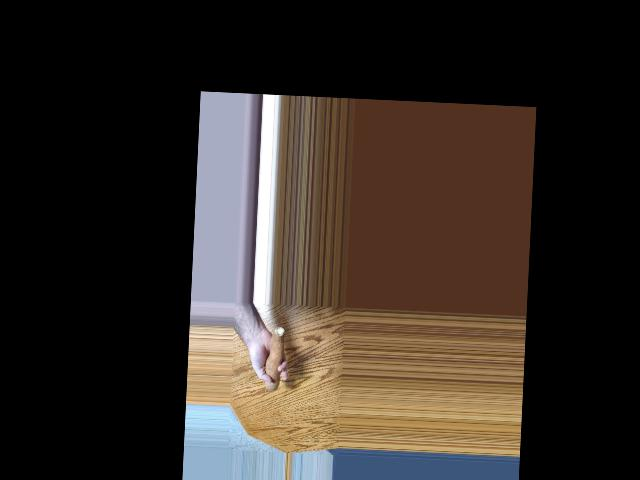sweet_potato: (267, 323, 287, 395)
